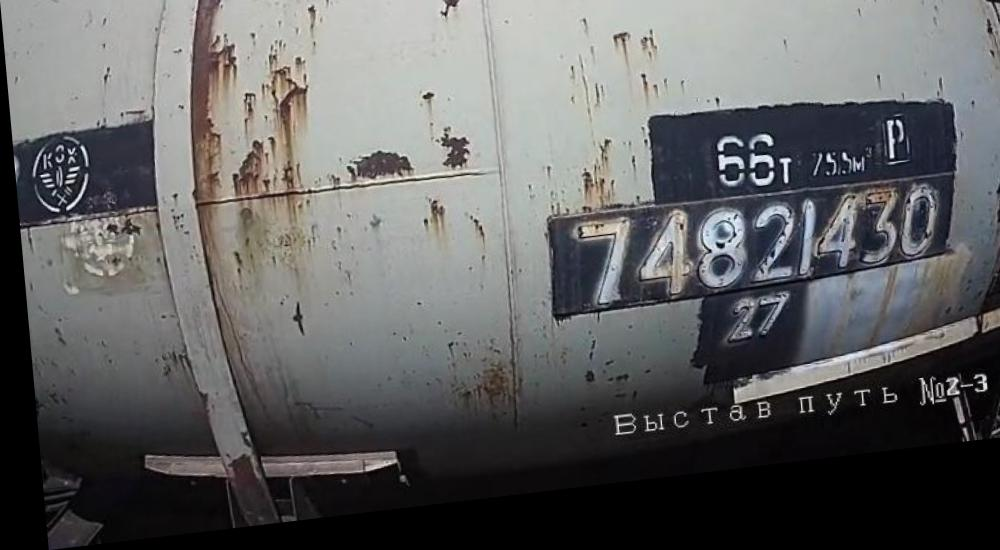Wagon-number: (562, 195, 936, 318)
